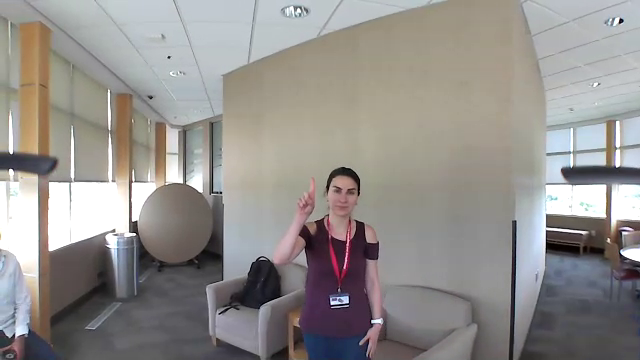up: (292, 171, 318, 220)
